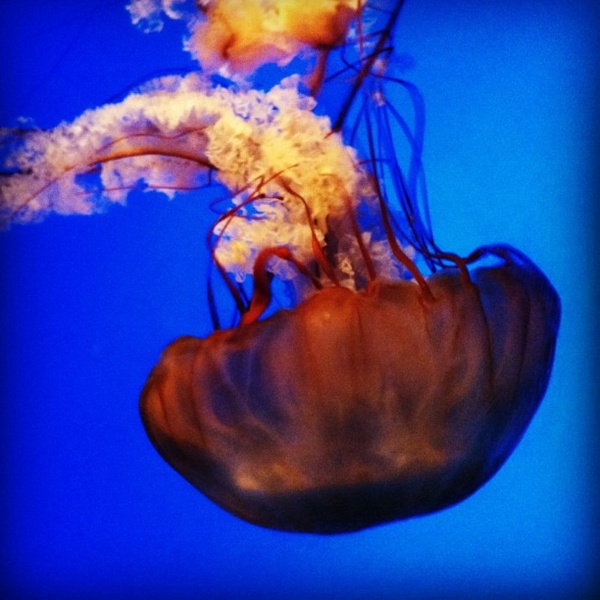Jellyfish: (29, 23, 571, 541)
